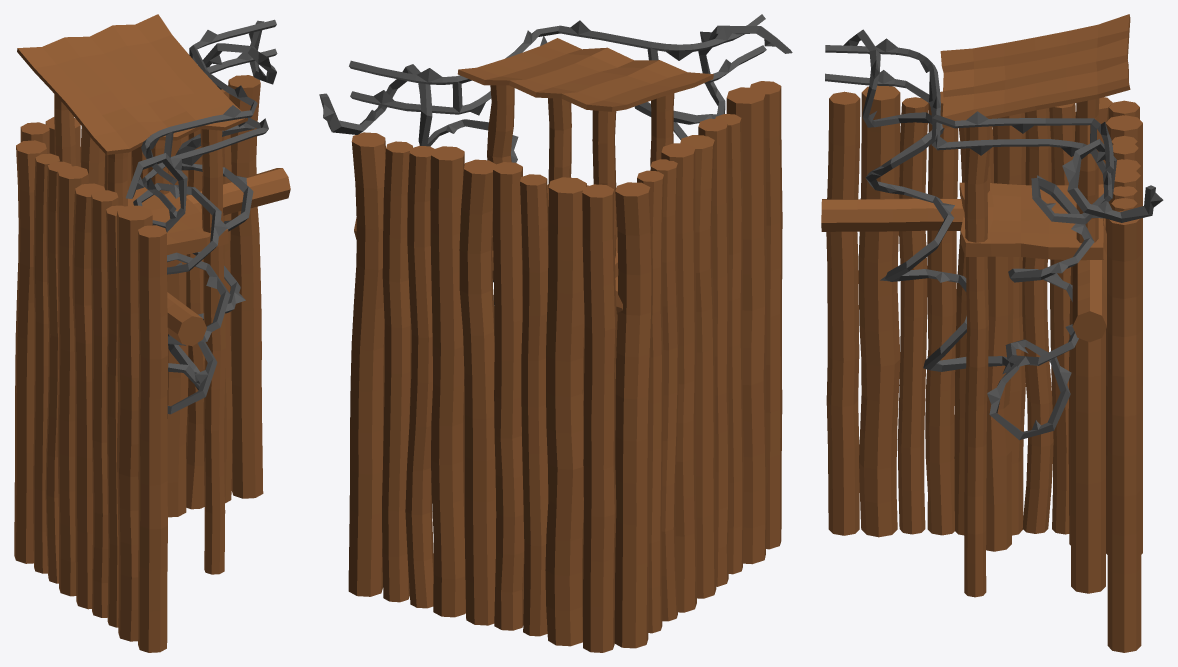
File: wall_wood_corner1.3.fbx
3 views of the same model, side by side, from view 1: azimuth 30°, elevation 25°; view 2: azimuth 150°, elevation 25°; view 3: azimuth 270°, elevation 25° (orthographic). The views are drawn at different scales.
Parts seen in each view (by area): view 1: Cube.001, Circle, Cylinder.002; view 2: Cube.001, Cylinder.002, Circle; view 3: Cube.001, Circle, Cylinder.002.
Boxes of the visible parts, left/top/right/bottom form: Cube.001: left=14, top=14, right=290, bottom=652; Circle: left=125, top=20, right=276, bottom=414; Cylinder.002: left=141, top=19, right=277, bottom=212; Cube.001: left=348, top=38, right=782, bottom=652; Cylinder.002: left=349, top=14, right=766, bottom=115; Circle: left=319, top=25, right=792, bottom=304; Cube.001: left=821, top=14, right=1142, bottom=652; Circle: left=843, top=29, right=1163, bottom=440; Cylinder.002: left=825, top=38, right=1113, bottom=201.
Bounding box in the file's own units: 261 × 435 × 261.
